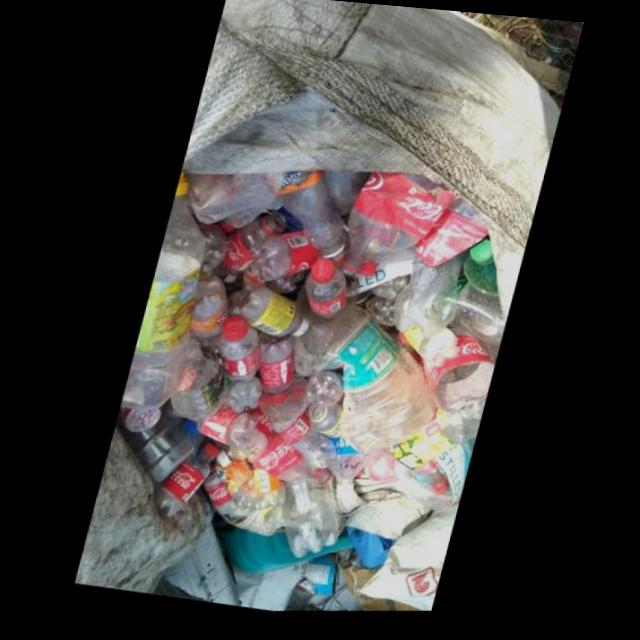chai_nhua_pet: (287, 302, 434, 460), (119, 172, 205, 415), (390, 204, 485, 344), (338, 178, 454, 281), (261, 176, 342, 267), (389, 409, 484, 477), (114, 411, 194, 485), (446, 274, 504, 364), (214, 216, 285, 286), (151, 448, 217, 521), (169, 339, 224, 424), (225, 285, 307, 342), (282, 487, 342, 564), (249, 440, 332, 490), (270, 417, 334, 474), (247, 235, 317, 286), (214, 317, 259, 385), (195, 408, 257, 457), (189, 278, 227, 353), (302, 263, 346, 326), (327, 443, 365, 504), (256, 336, 293, 398), (460, 245, 496, 305), (218, 381, 261, 417), (303, 374, 342, 412), (116, 409, 161, 435), (306, 411, 340, 443), (354, 262, 382, 283)
